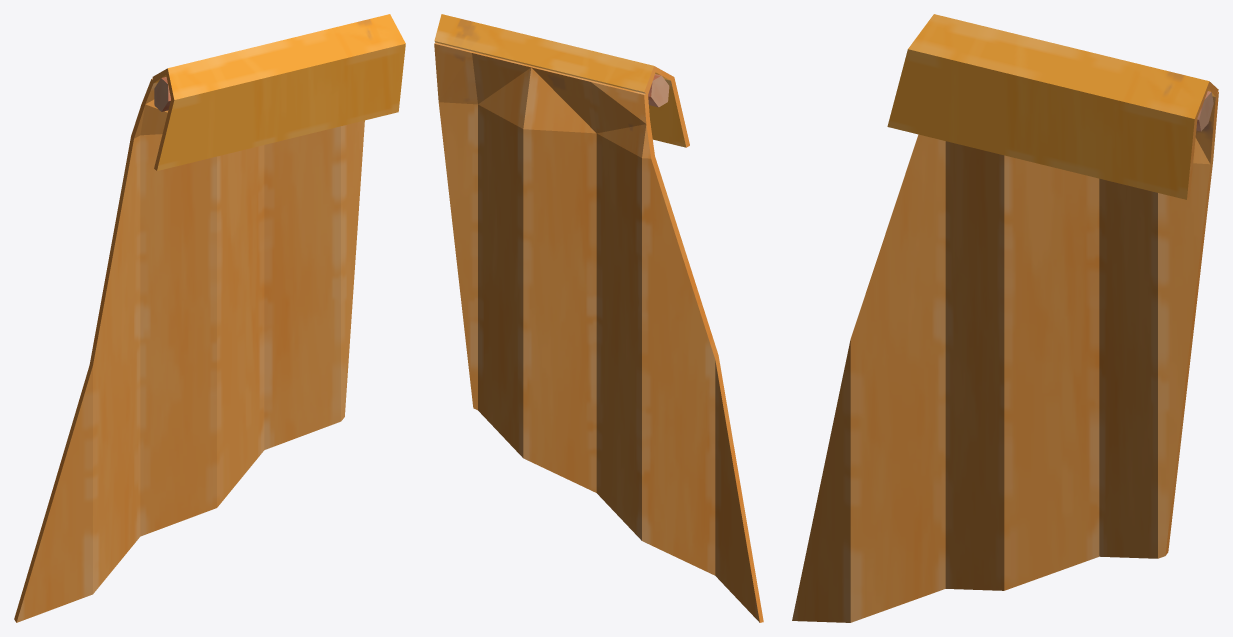
Rendered from rack_saffron_s03.fbx.
3 renders of one model, left to right at view 1: azimuth 30°, elevation 25°; view 2: azimuth 150°, elevation 25°; view 3: azimuth 330°, elevation 25°, orthographic. The views are drawn at different scales.
Parts seen in each view (by area): view 1: rack_saffron_s03; view 2: rack_saffron_s03; view 3: rack_saffron_s03.
Boxes of the visible parts, x1,y1,x2,y2 form: rack_saffron_s03: (14, 14, 405, 622); rack_saffron_s03: (434, 14, 763, 622); rack_saffron_s03: (792, 14, 1218, 622).
Size of the model in its own units: 4.22 by 6.05 by 0.7289.
